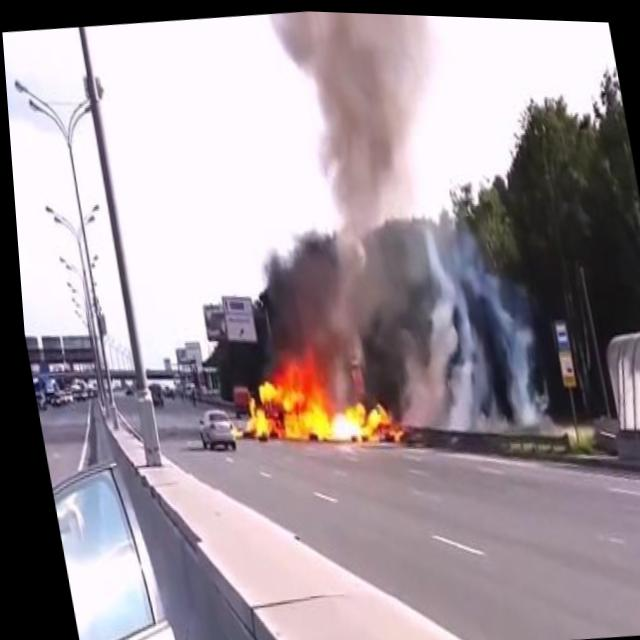fire: (232, 343, 400, 457)
